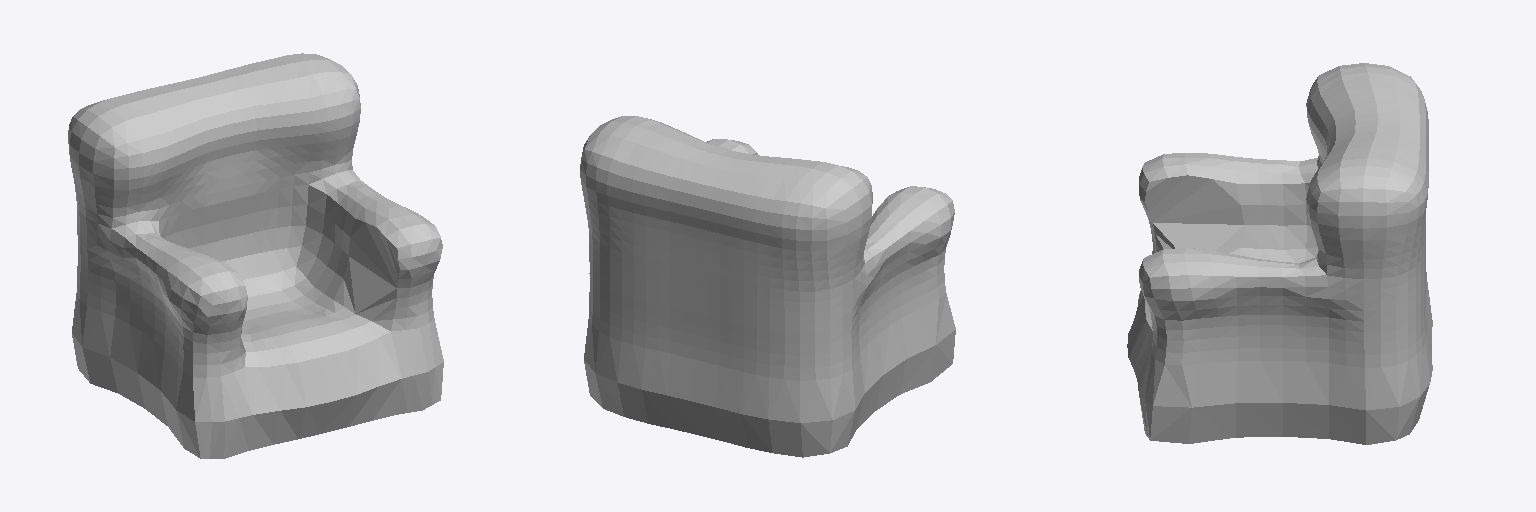
The model's file is Krzeslo3.obj.
3 views of the same model, side by side, from view 1: azimuth 30°, elevation 25°; view 2: azimuth 150°, elevation 25°; view 3: azimuth 270°, elevation 25° (orthographic).
Visible parts, largest first — view 1: Fotel.001_Cube.017; view 2: Fotel.001_Cube.017; view 3: Fotel.001_Cube.017.
Part boxes in pixels (x1,y1,x2,y2): Fotel.001_Cube.017: (68,53,443,458); Fotel.001_Cube.017: (580,116,955,457); Fotel.001_Cube.017: (1127,63,1432,444).
Bounding box in the file's own units: 2.22 × 2.2 × 2.16.